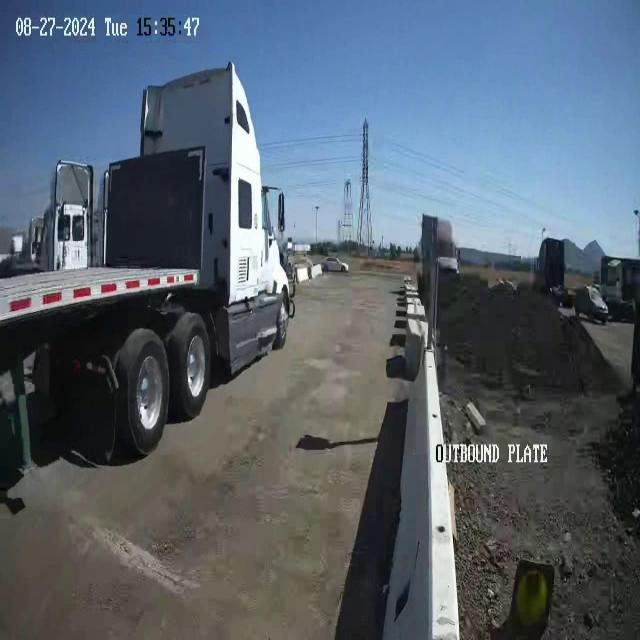BOBTAIL: (1, 59, 295, 463)
